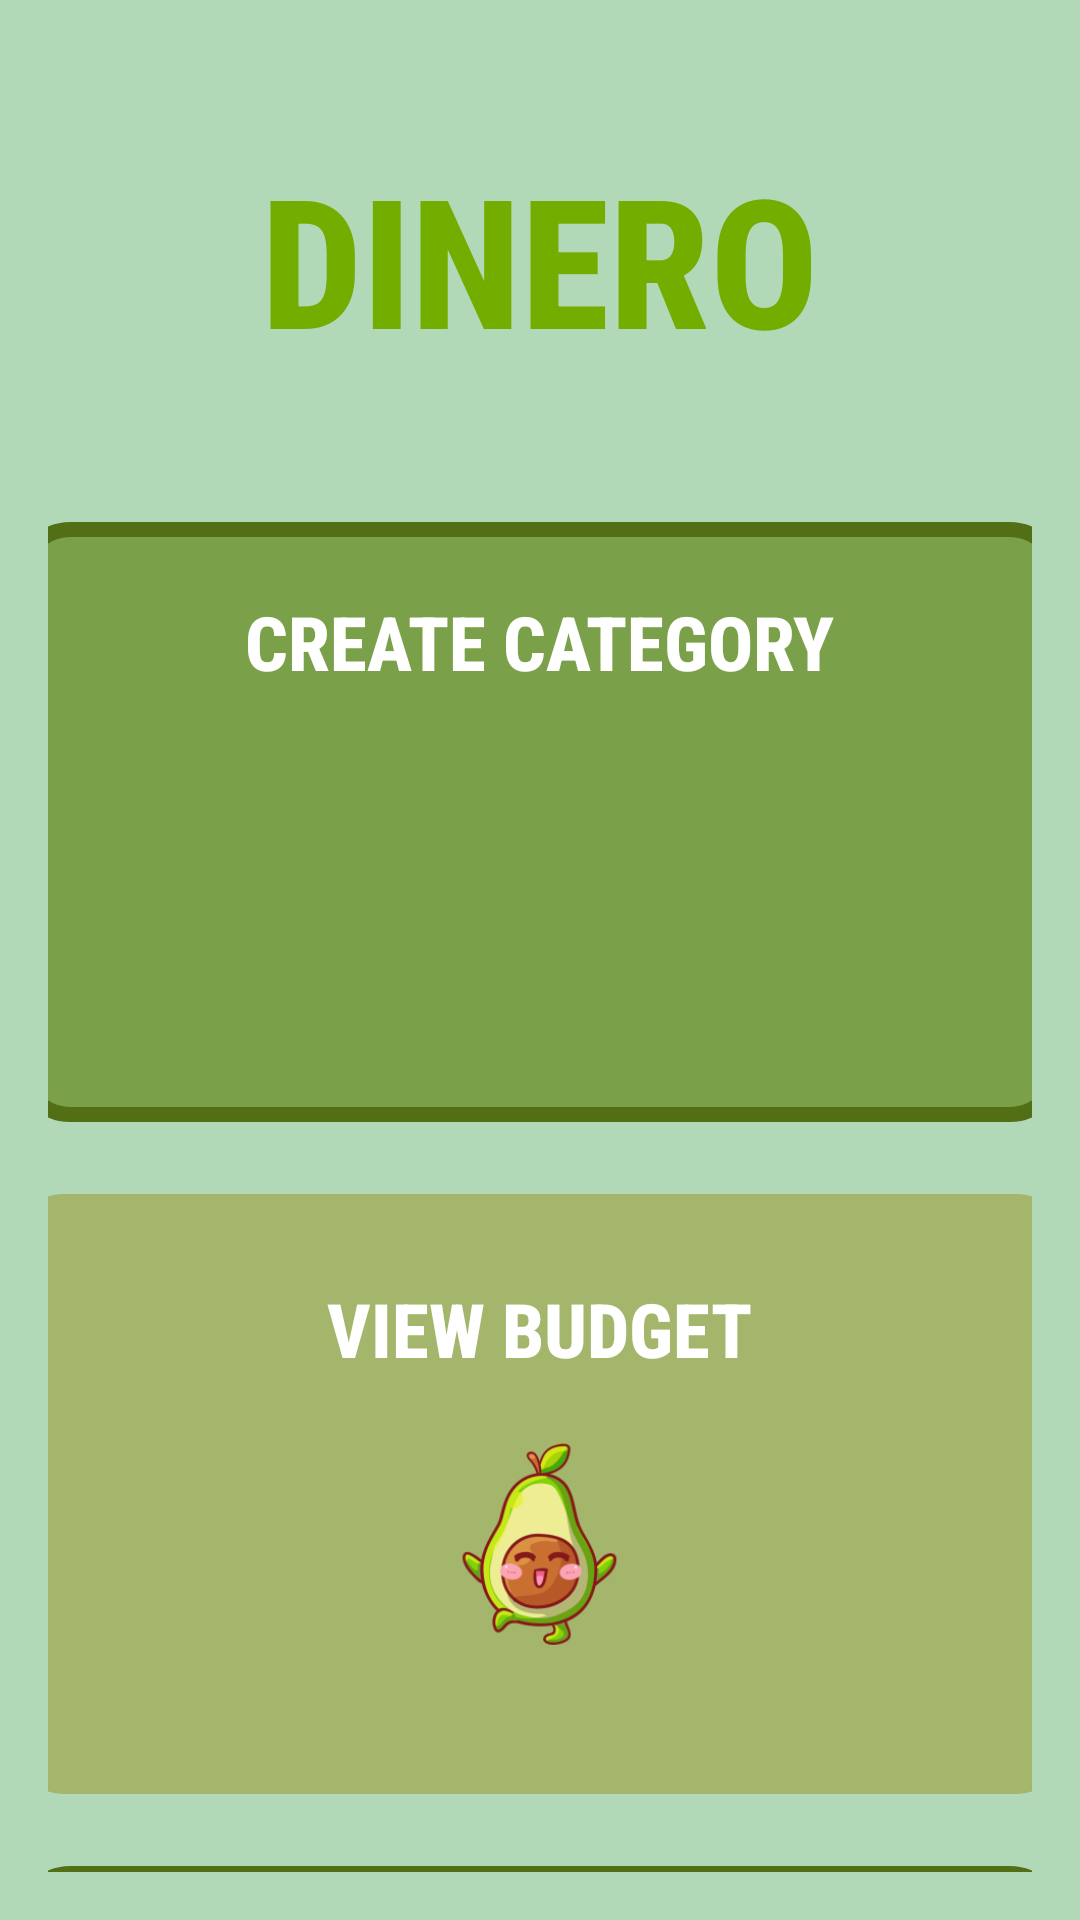

Point at icon controls on the screen. Image size 1080×1920, points as point (x, y).
avocado happy: point (539, 1544)
